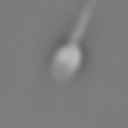normal: (68, 1, 99, 41)
